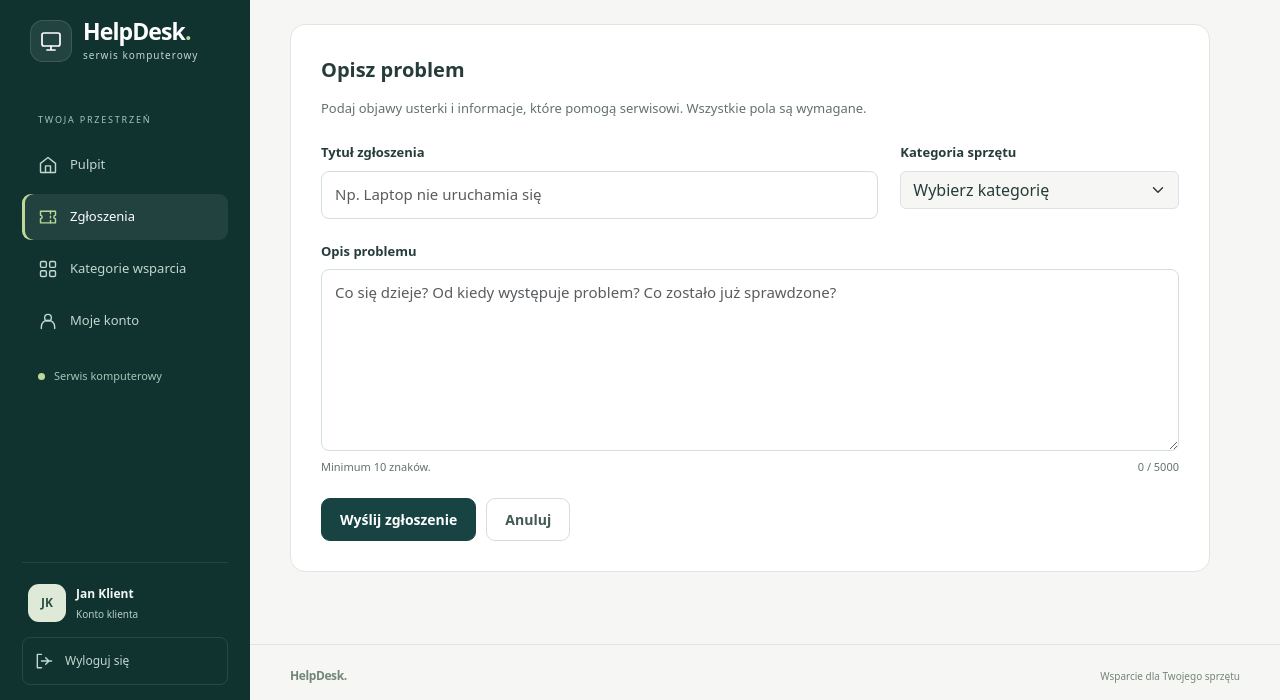
Test: Nowe zgłoszenie sprawdza pola i po zapisie otwiera rzeczywiste szczegóły
The image size is (1280, 700).
(page scrolled)
Check: the field labelled "Tytuł zgłoszenia" is shown, box [321,171,878,219]
Click the button "Wyślij zgłoszenie" at (399, 520), box [321,498,476,541]
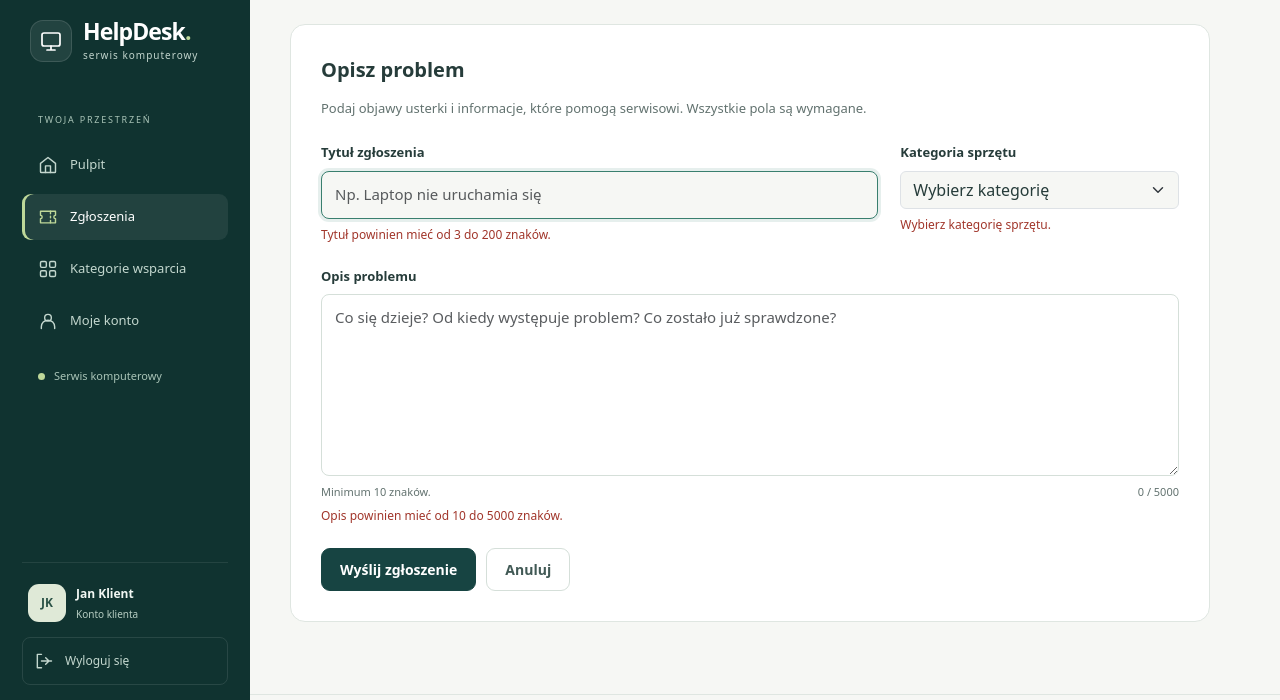
Check: the text "Tytuł powinien mieć od 3 do 200 znaków." is shown, box [321,226,551,243]
Type "Laptop nie uruchamia się" into the field labelled "Tytuł zgłoszenia" at (600, 195), box [321,171,878,219]
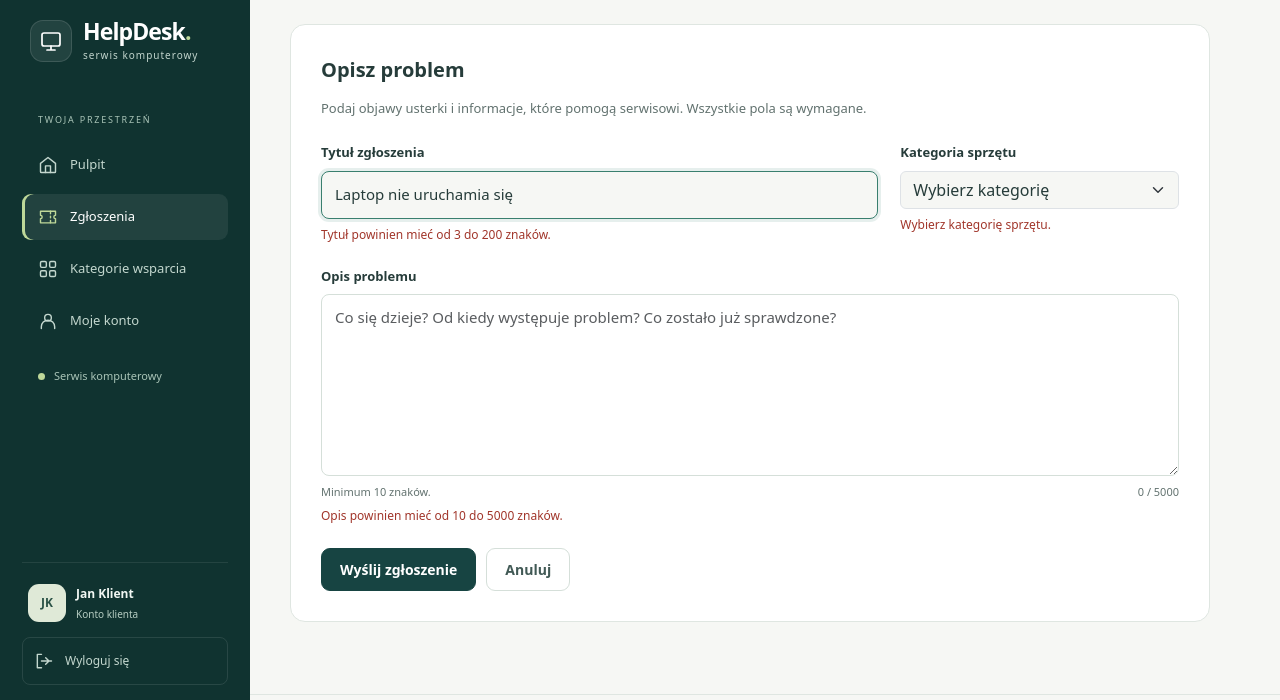
Select "Laptop" in the dropdown labelled "Kategoria sprzętu" at (1040, 190), box [900,171,1179,209]
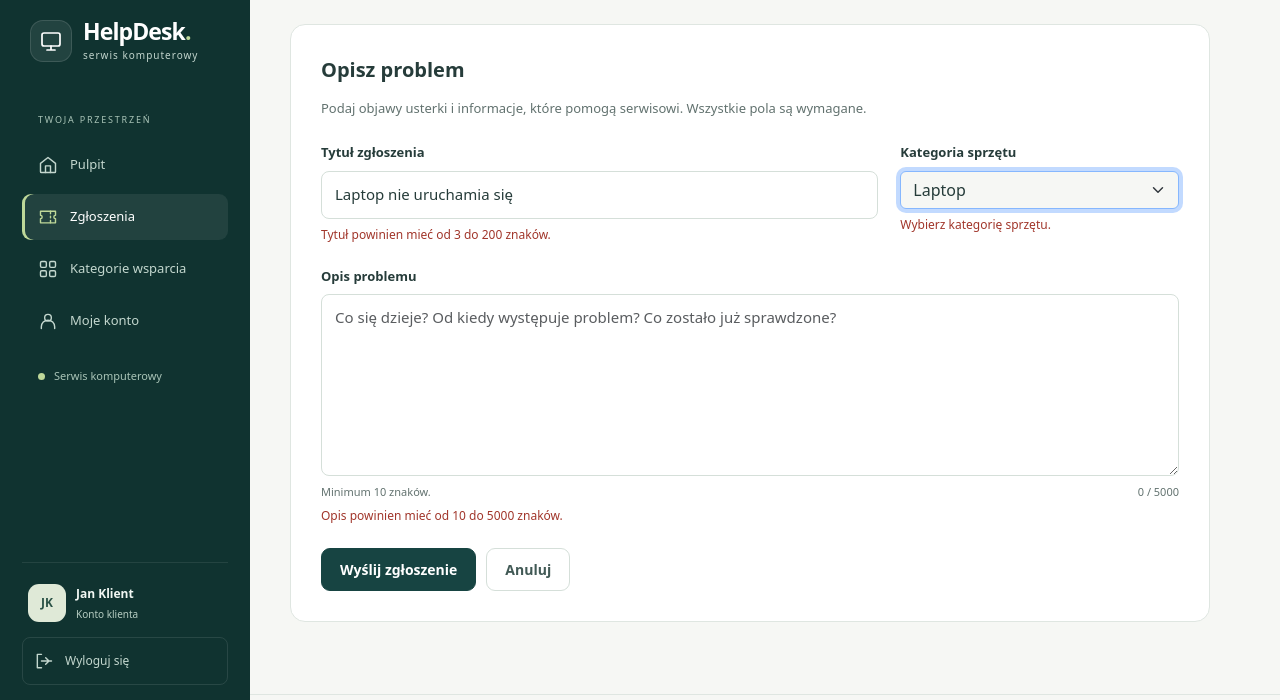
Type "Po podłączeniu zasilacza ekran pozostaje czarny." into the text box labelled "Opis problemu" at (750, 385), box [321,294,1179,476]
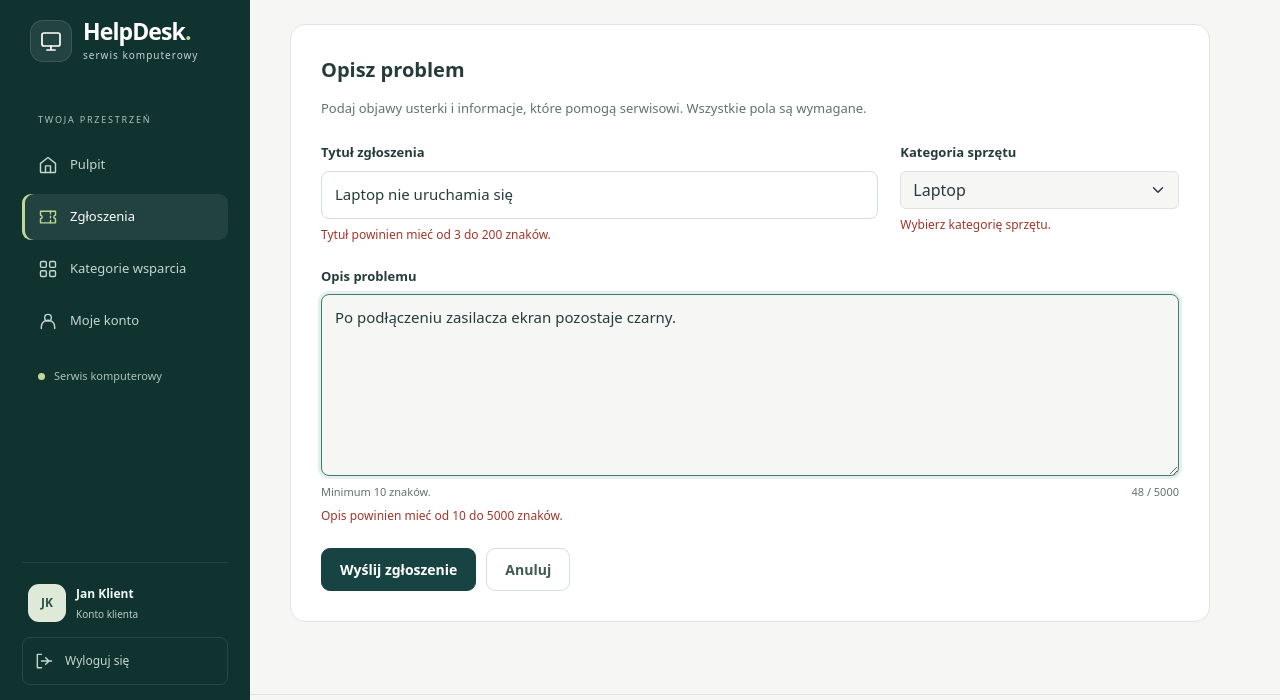
Click the button "Wyślij zgłoszenie" at (399, 570), box [321,548,476,591]
(page scrolled)
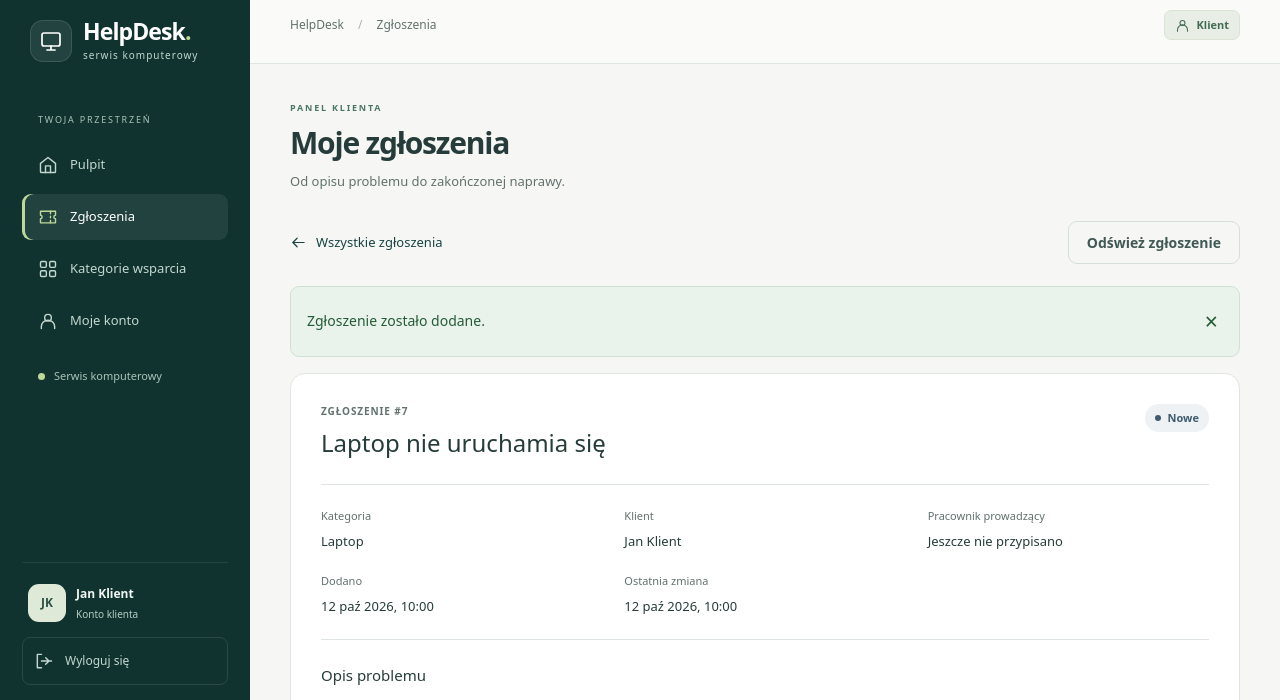
Check: the heading "Laptop nie uruchamia się" is shown, box [321,426,606,460]
Check: the message shows "Zgłoszenie zostało dodane", box [307,311,485,330]
